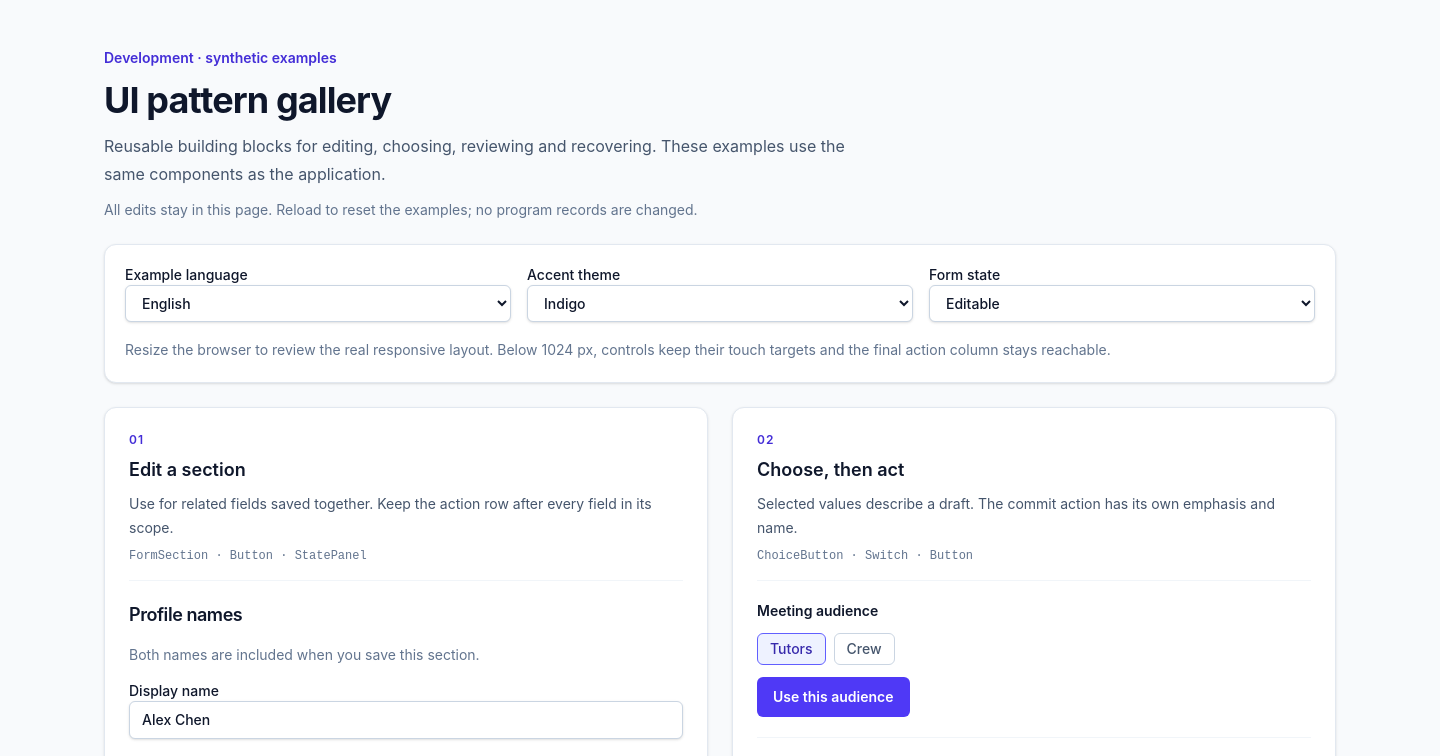
Test: keeps selection, immediate switches and tab navigation distinct from saving
Click the button "Crew": click(864, 649) [834,633,895,665]
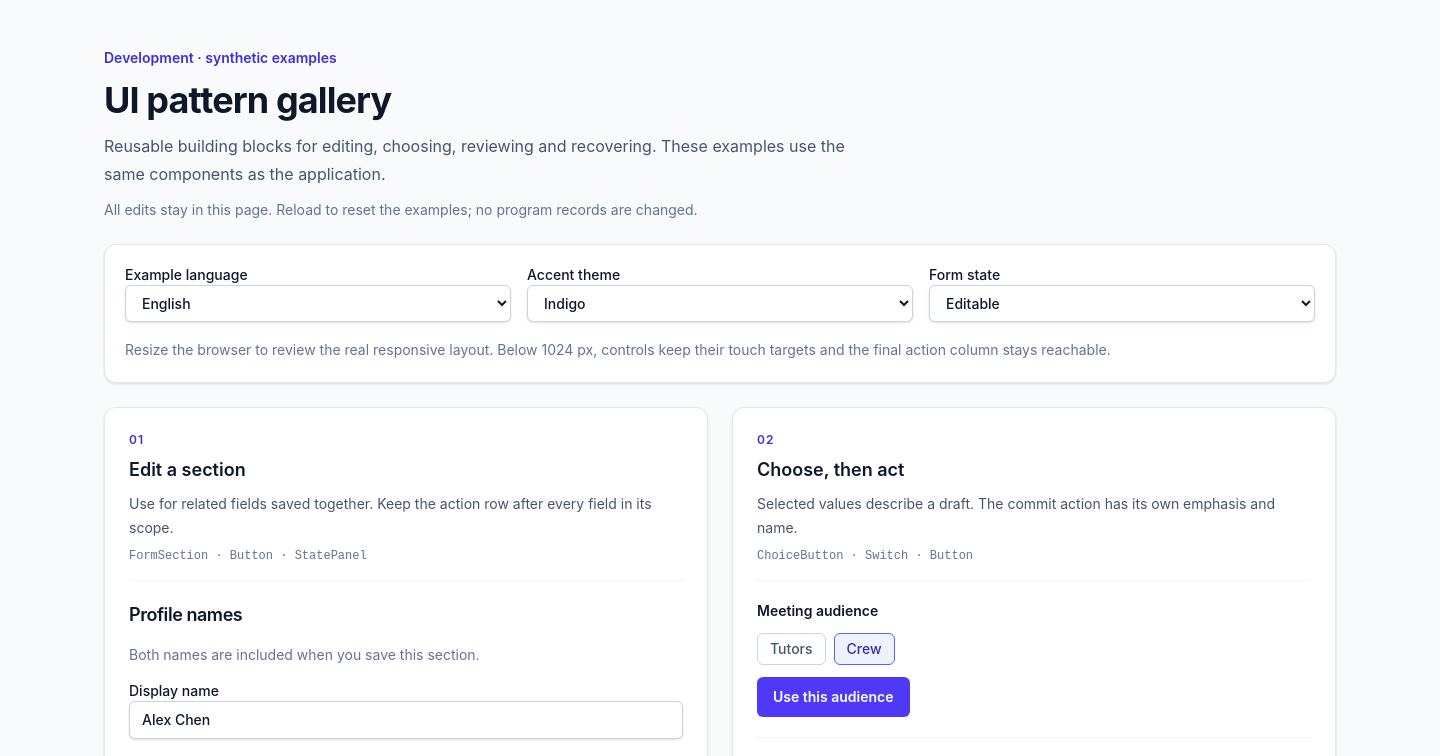
Check: the text "Example audience updated." is not shown
Check: the button "Crew" is pressed, box [834,633,895,665]
Click the button "Use this audience": click(833, 697) [757,677,910,717]
(page scrolled)
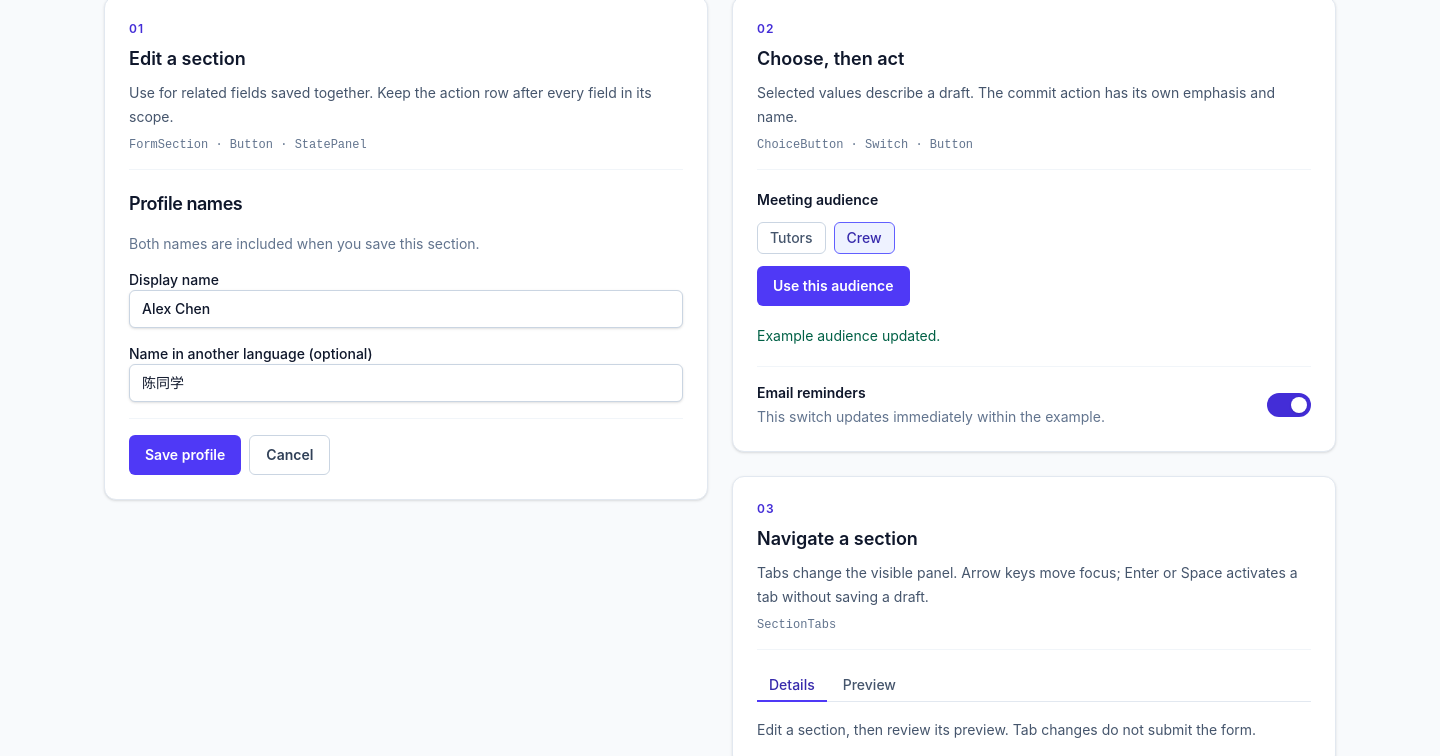
Check: the text "Example audience updated." is shown, box [757,327,940,344]
Click the switch named "Email reminders": click(1289, 405) [1267,389,1311,421]
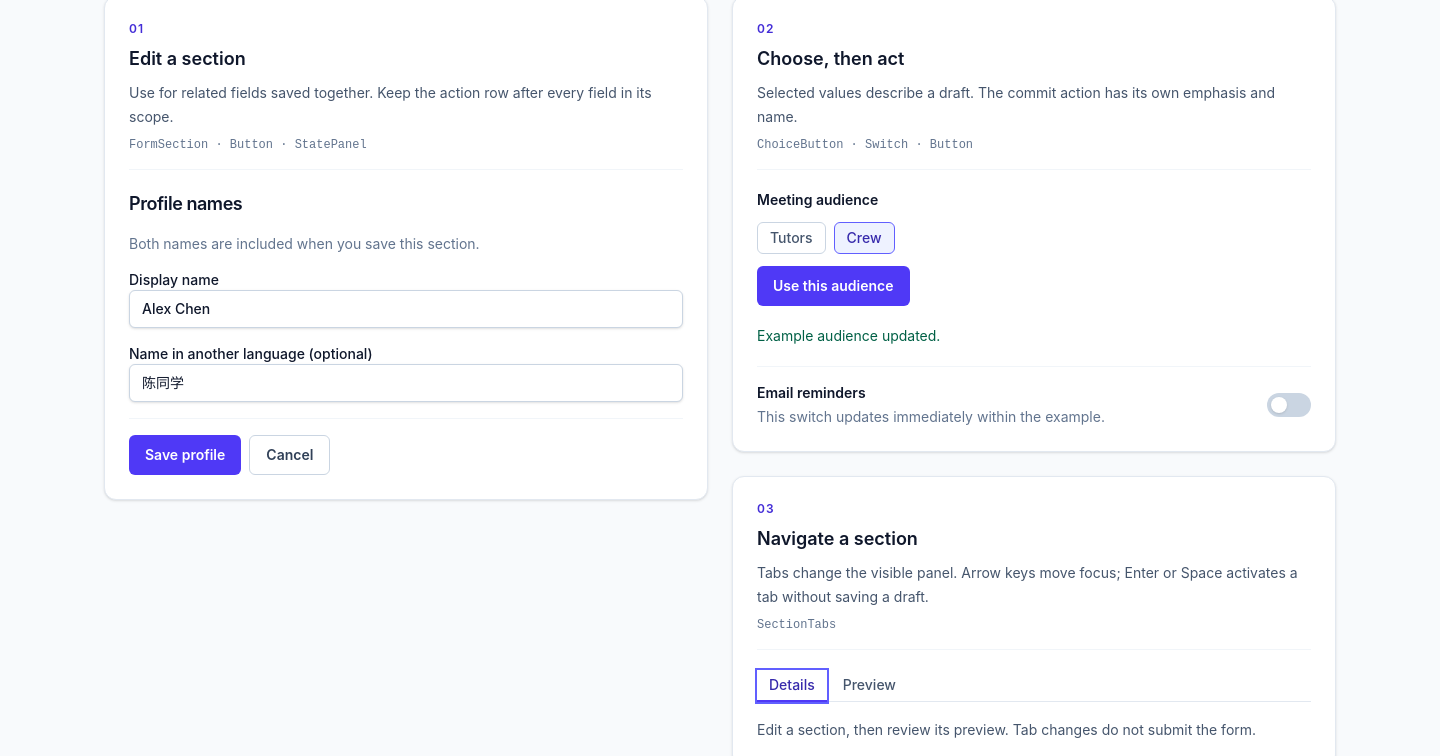
Check: the switch named "Email reminders" is not checked, box [1267,389,1311,421]
Press ArrowRight in the tab "Details", box [757,670,827,702]
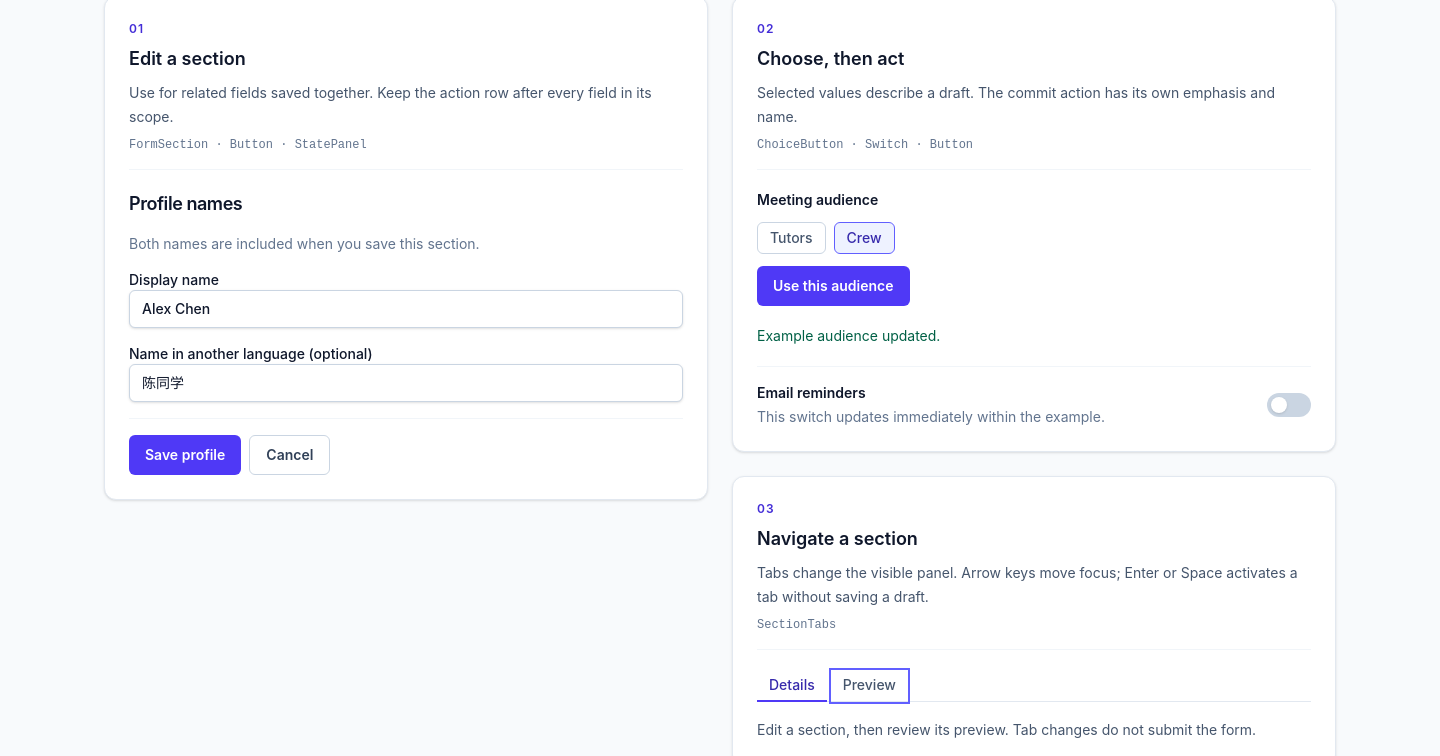
Click the tab "Preview": click(869, 686) [831,670,908,702]
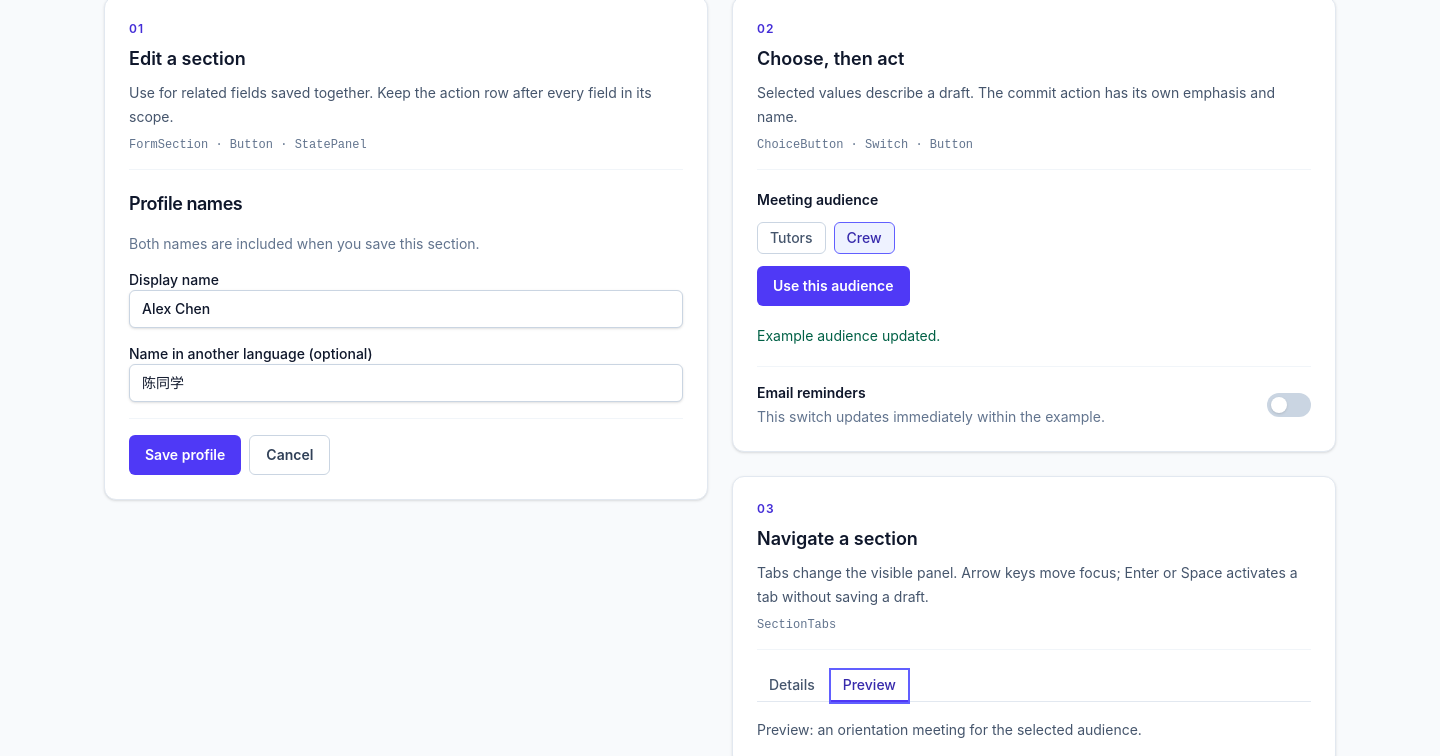
Check: the panel shows "Preview: an orientation meeting", box [757,721,1142,738]
